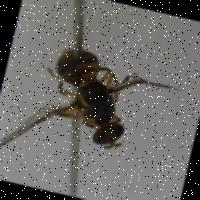Oriental-fruit-fly: (0, 25, 182, 192)
